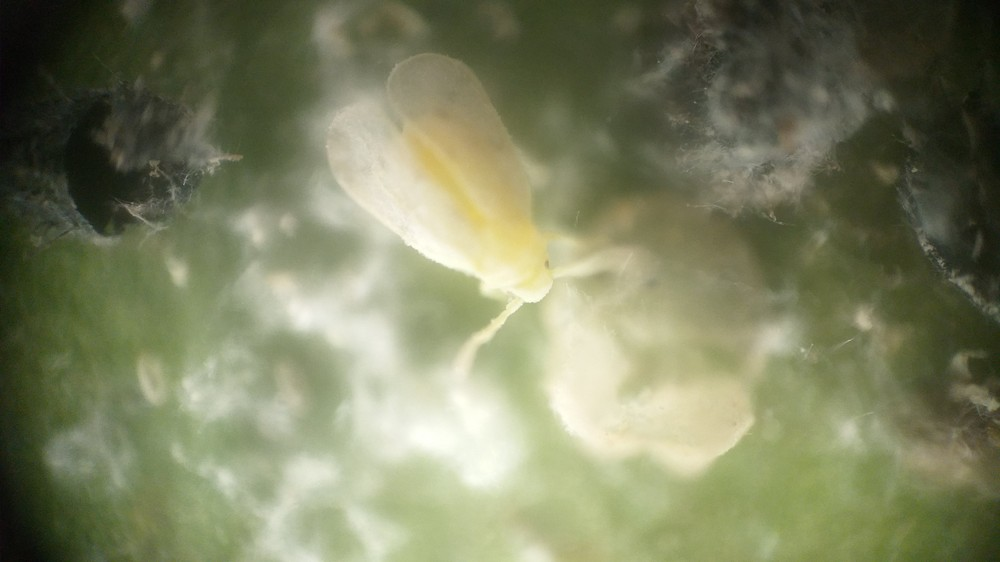Mosca Blanca: (306, 48, 664, 407)
